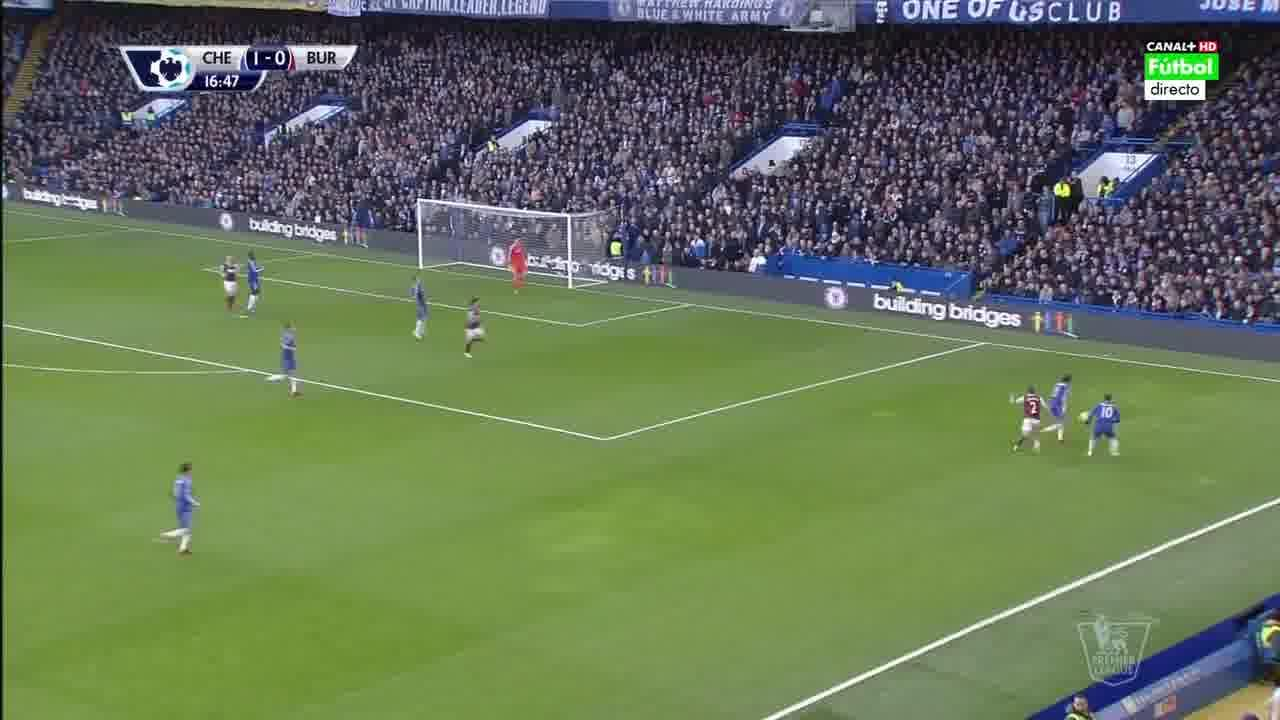football: (1076, 410, 1088, 422)
